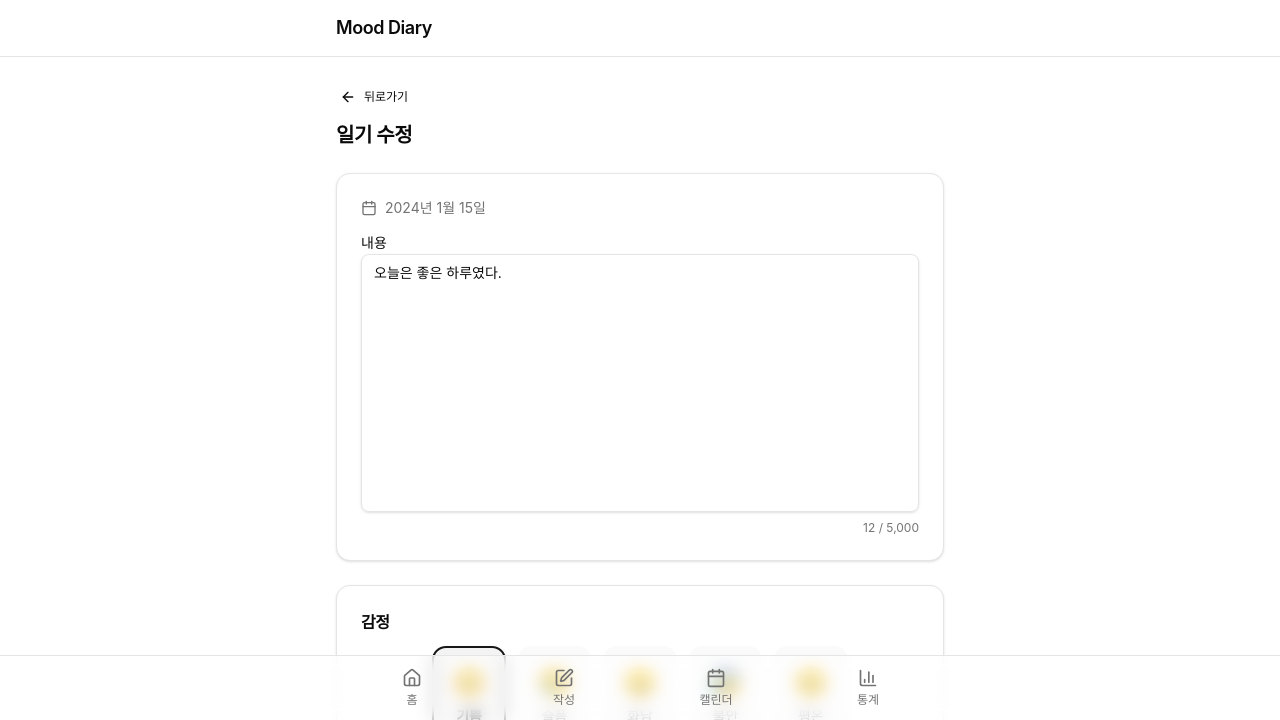
it: EditPage (TC-010) › 저장 및 네비게이션 › 내용이 비어있으면 저장 버튼이 비활성화된다
Clear the text box at (640, 383), box [361, 254, 919, 512]
(page scrolled)
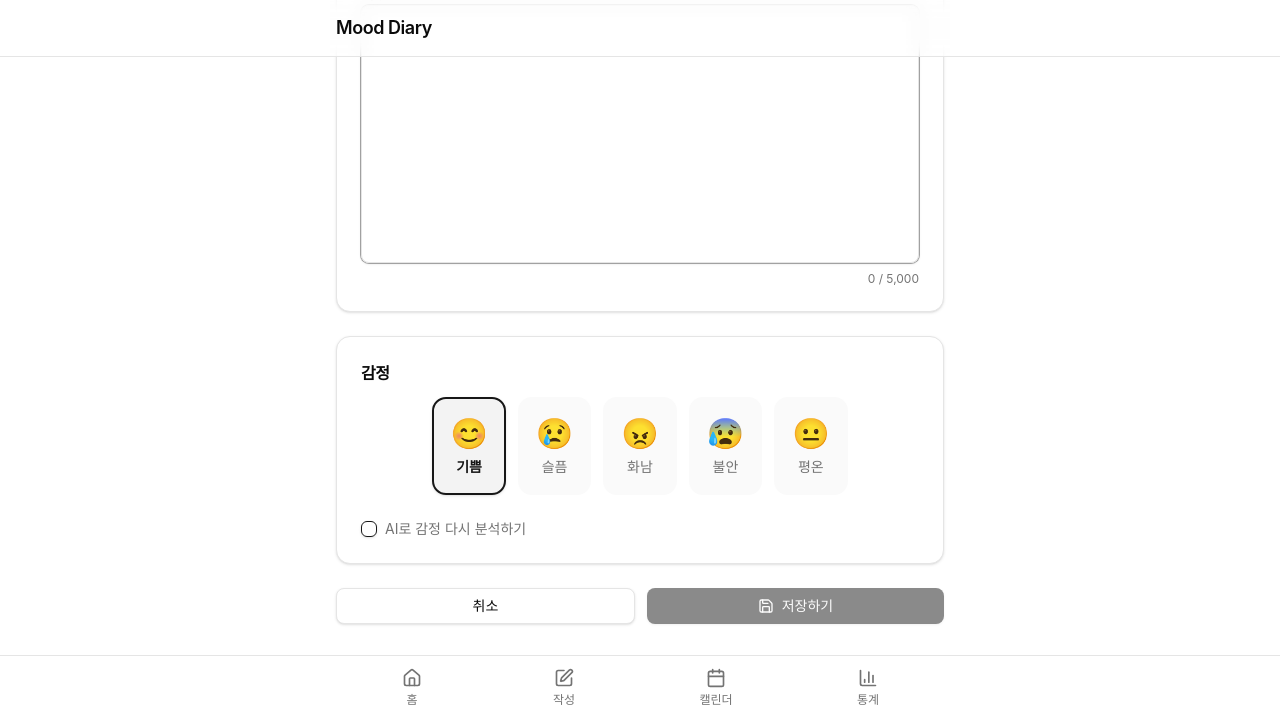
Check: the button "저장하기" is disabled, box [647, 588, 944, 624]
